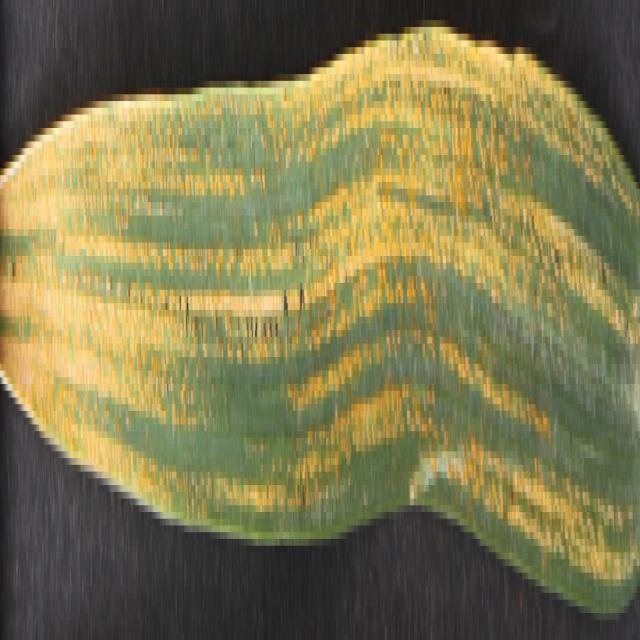leaf rust: (1, 34, 640, 613)
